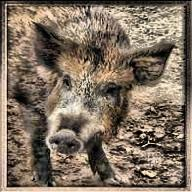boar: (0, 0, 172, 189)
